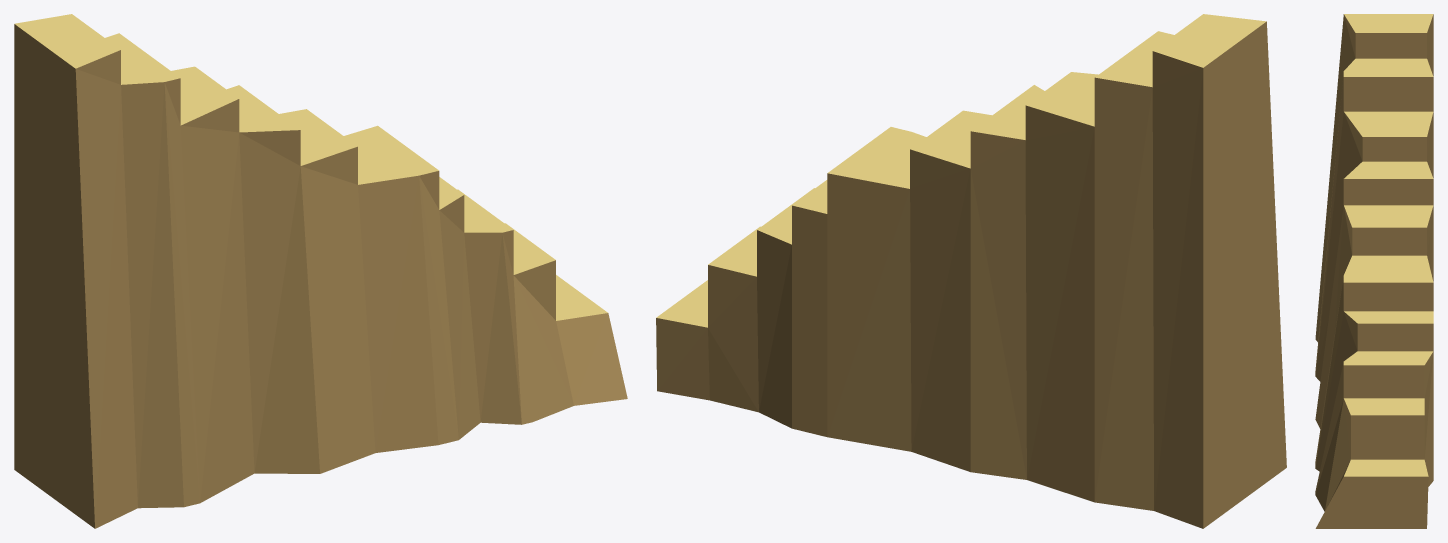
The model's file is Terrain_Tile_Sand_Stairs_02.fbx.
3 views of the same model, side by side, from view 1: azimuth 30°, elevation 25°; view 2: azimuth 150°, elevation 25°; view 3: azimuth 270°, elevation 25° (orthographic). The views are drawn at different scales.
Visible parts, largest first — view 1: Terrain_Tile_Sand_Stairs_02; view 2: Terrain_Tile_Sand_Stairs_02; view 3: Terrain_Tile_Sand_Stairs_02.
Part boxes in pixels (box(x1,y1,x2,y2)): Terrain_Tile_Sand_Stairs_02: box(14, 14, 627, 528); Terrain_Tile_Sand_Stairs_02: box(656, 14, 1286, 528); Terrain_Tile_Sand_Stairs_02: box(1315, 14, 1433, 528).
Size of the model in its own units: 157 by 126 by 41.44.
